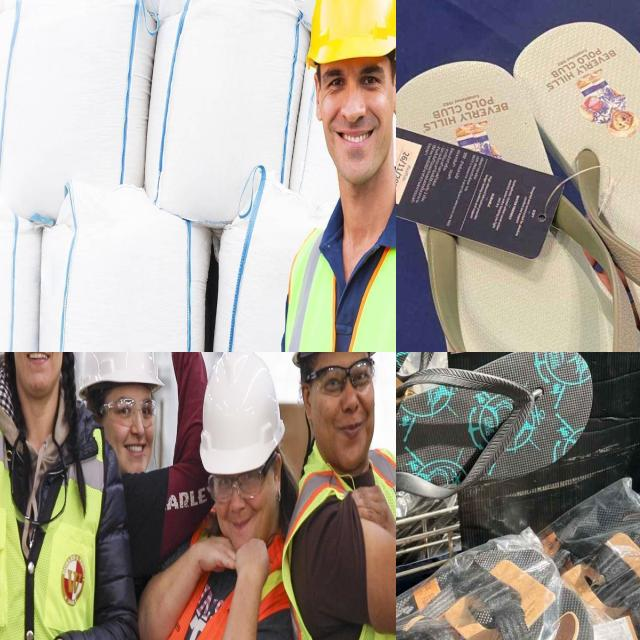No_Ear-Protection: (300, 379, 316, 423), (271, 450, 284, 502), (313, 68, 324, 125)
No_Glasses: (323, 59, 389, 102)
Sandals: (396, 0, 640, 352), (396, 352, 612, 536)
face_nomask: (312, 59, 395, 177), (311, 352, 379, 457), (210, 458, 277, 557), (104, 372, 156, 487), (7, 352, 64, 398)
glasses: (314, 354, 377, 398), (204, 465, 264, 505), (103, 392, 159, 431)
hand_noglove: (190, 524, 240, 584), (230, 540, 280, 589)
head_helmet: (196, 352, 285, 473), (307, 0, 396, 65), (78, 352, 165, 398)
person: (271, 0, 396, 352), (154, 352, 302, 640), (0, 352, 131, 640), (270, 352, 396, 640)
vest: (0, 398, 98, 640), (284, 446, 396, 640), (151, 494, 299, 640), (281, 199, 396, 352)
